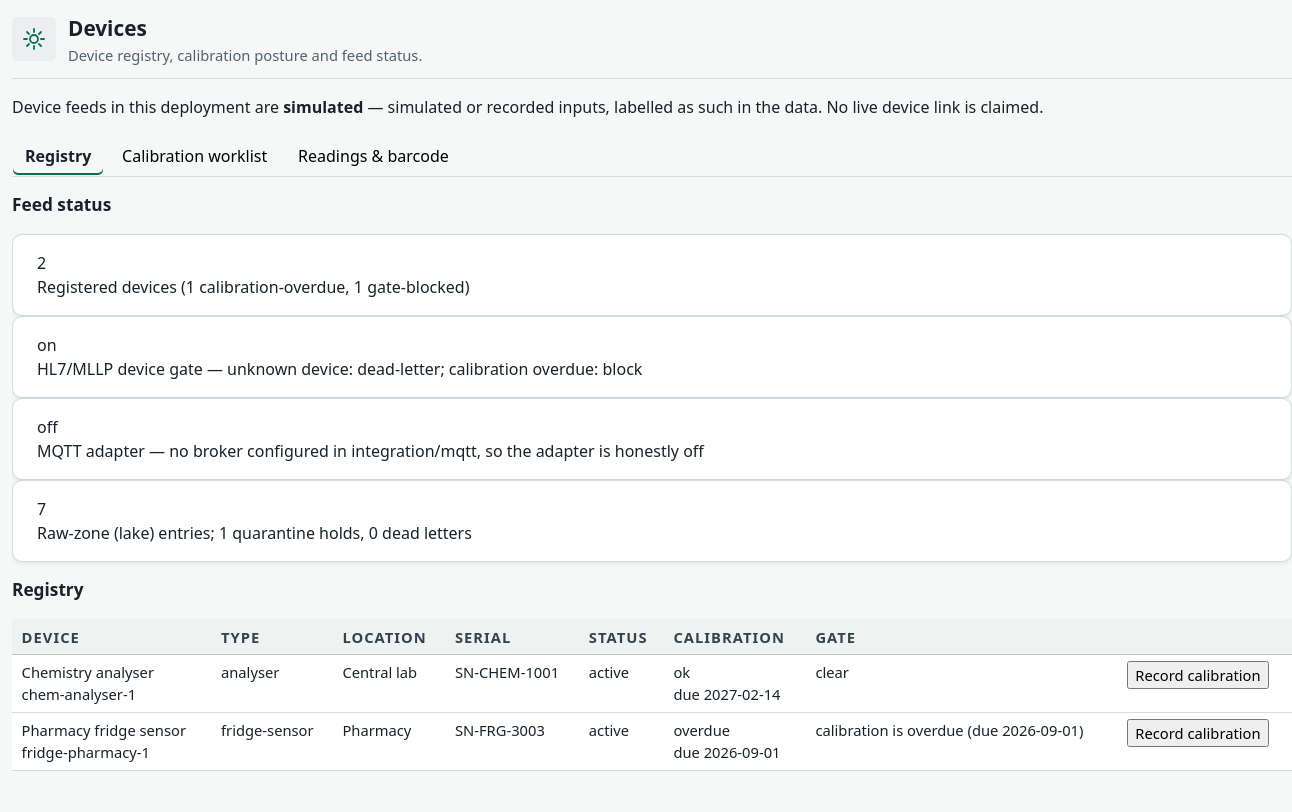
DevicesPage › renders the registry with calibration posture and the honest simulated label
The width and height of the screenshot is (1292, 812).
Expected: the text "Chemistry analyser" is shown, [22, 662, 154, 682]
Expected: the text "simulated" is shown, [283, 96, 363, 118]
Note: UX pass (spec P-7): readings live in their own tab now.
Click the tab "Readings & barcode".
click(373, 156)  # box [285, 135, 462, 176]
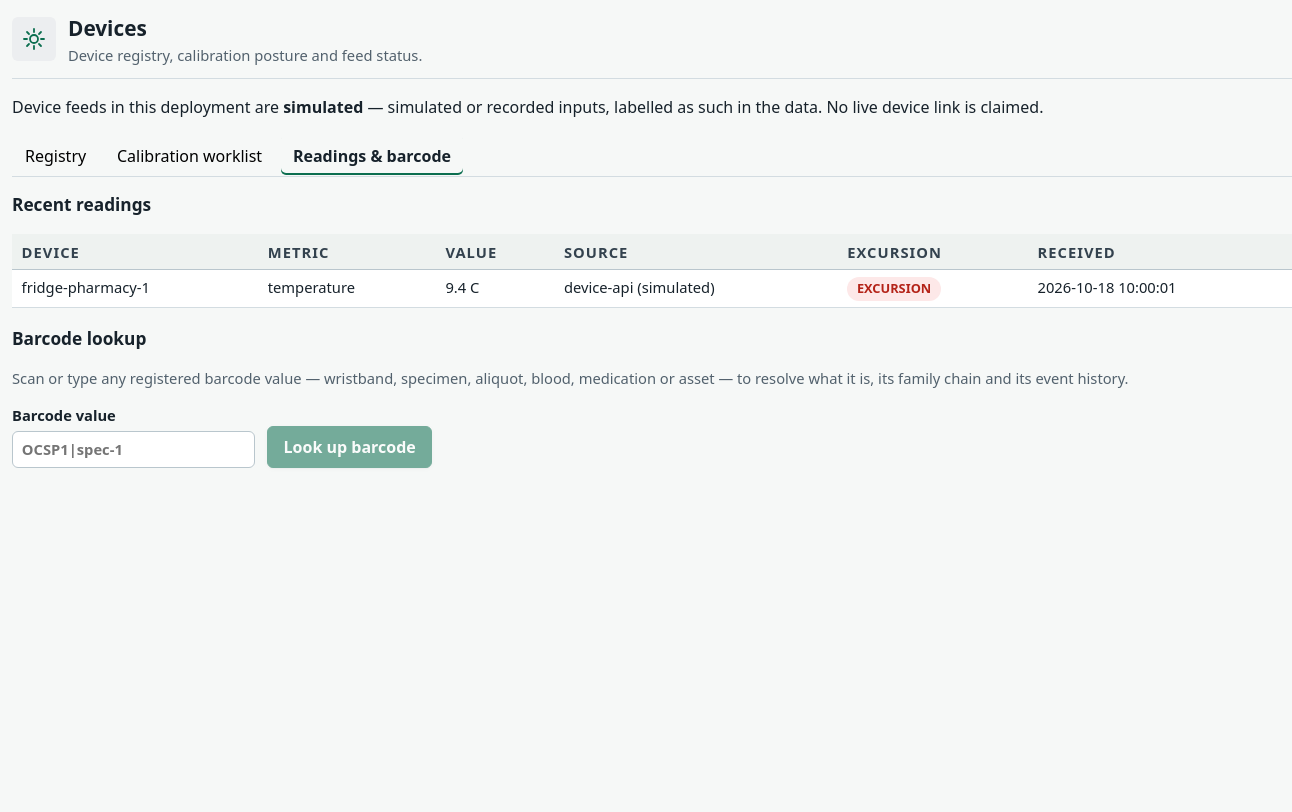
Expected: the text "EXCURSION" is shown, [847, 277, 941, 301]
